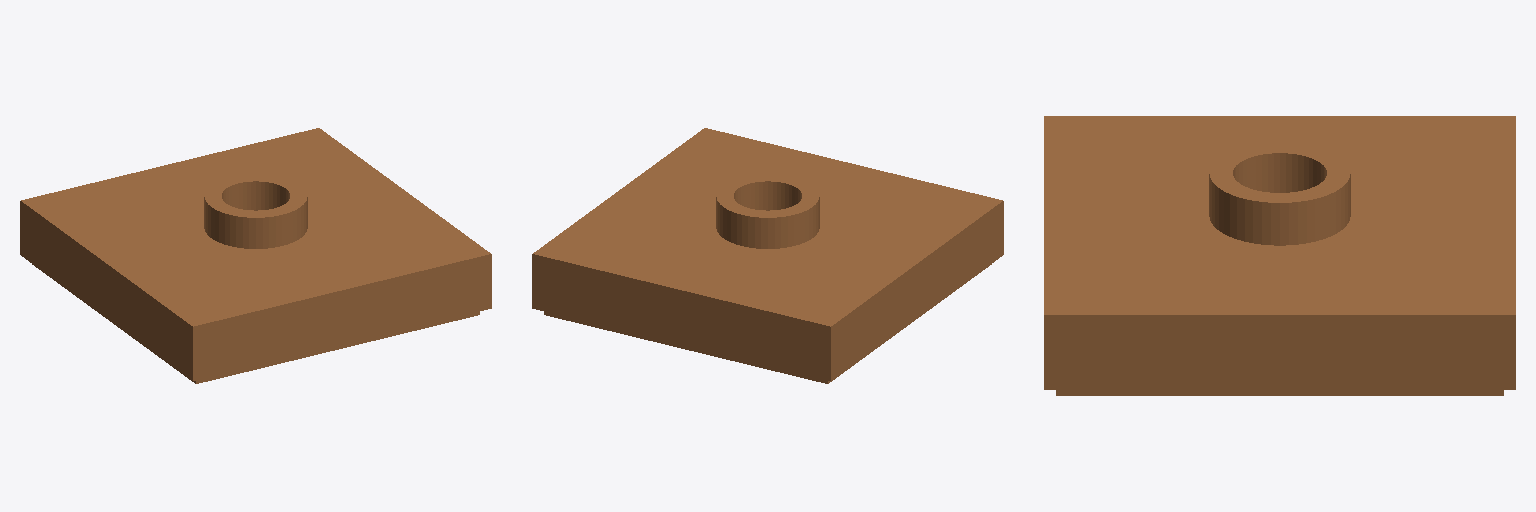
The robot description file, URDF, robot "87580__medium_nougat":
<?xml version="1.0"?>
<robot name="87580__medium_nougat">
  <link name="87580__medium_nougat">
    <inertial>
      <origin xyz="0.000000 -0.000000 -0.001195" rpy="0 0 0"/>
      <mass value="0.001051"/>
      <inertia ixx="2.218101985e-08" ixy="-1.130910994e-25" ixz="-3.667220265e-25" iyy="2.218101985e-08" iyz="1.031092543e-25" izz="4.142080403e-08"/>
    </inertial>
    <visual>
      <geometry>
        <mesh filename="../meshes/visual/87580.obj" scale="1 1 1"/>
      </geometry>
      <material name="87580__medium_nougat_color">
        <color rgba="0.680 0.480 0.310 1.000"/>
      </material>
    </visual>
    <collision>
      <geometry>
        <mesh filename="../meshes/collision/87580_hull.obj" scale="1 1 1"/>
      </geometry>
    </collision>
  </link>
</robot>

--- What the picture shows (computed from the rendered views, not written in the file) ---
Views: 3 orthographic renders of the robot side by side, from view 1: azimuth 30°, elevation 25°; view 2: azimuth 150°, elevation 25°; view 3: azimuth 270°, elevation 25°.
Model 87580__medium_nougat with 1 links and 0 joints (none), rooted at 87580__medium_nougat, posed all joints at 0.
Visible links, largest first — view 1: 87580__medium_nougat; view 2: 87580__medium_nougat; view 3: 87580__medium_nougat.
Link boxes in pixels (x1=…): 87580__medium_nougat: x1=20, y1=128, x2=491, y2=383; 87580__medium_nougat: x1=532, y1=128, x2=1003, y2=383; 87580__medium_nougat: x1=1044, y1=116, x2=1515, y2=395.
Bounding box of the posed robot: 0.016 × 0.016 × 0.0048 m (x, y, z).
Meshes: 1 distinct files referenced, 1 mesh visuals loaded (1 OBJ).
